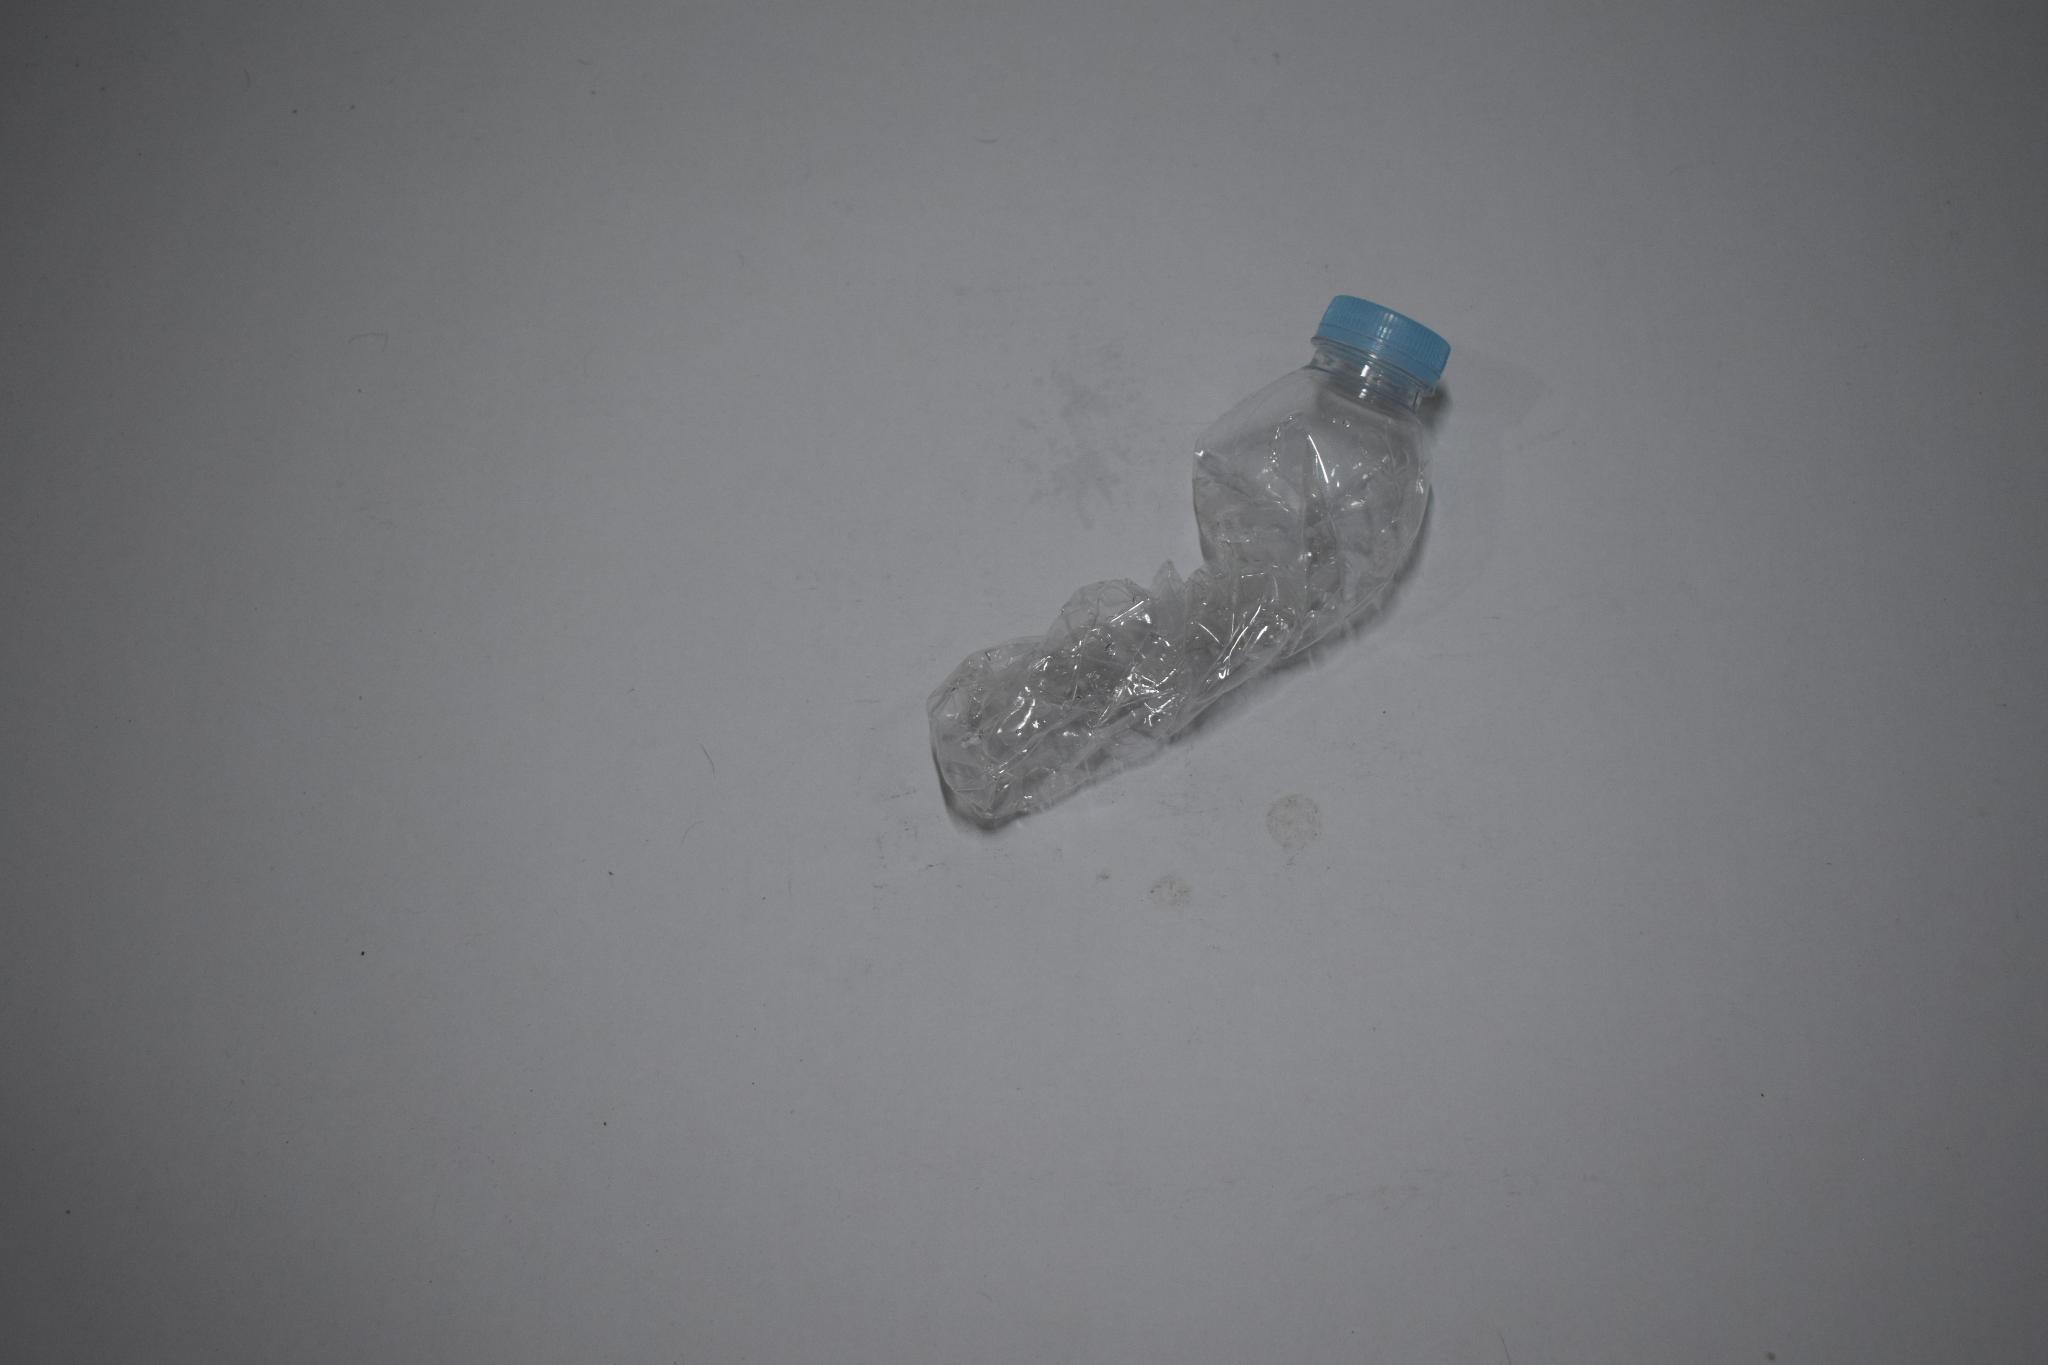bottle: (923, 264, 1503, 874)
